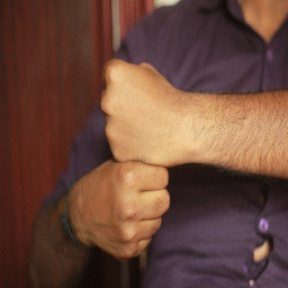G: (70, 52, 187, 264)
